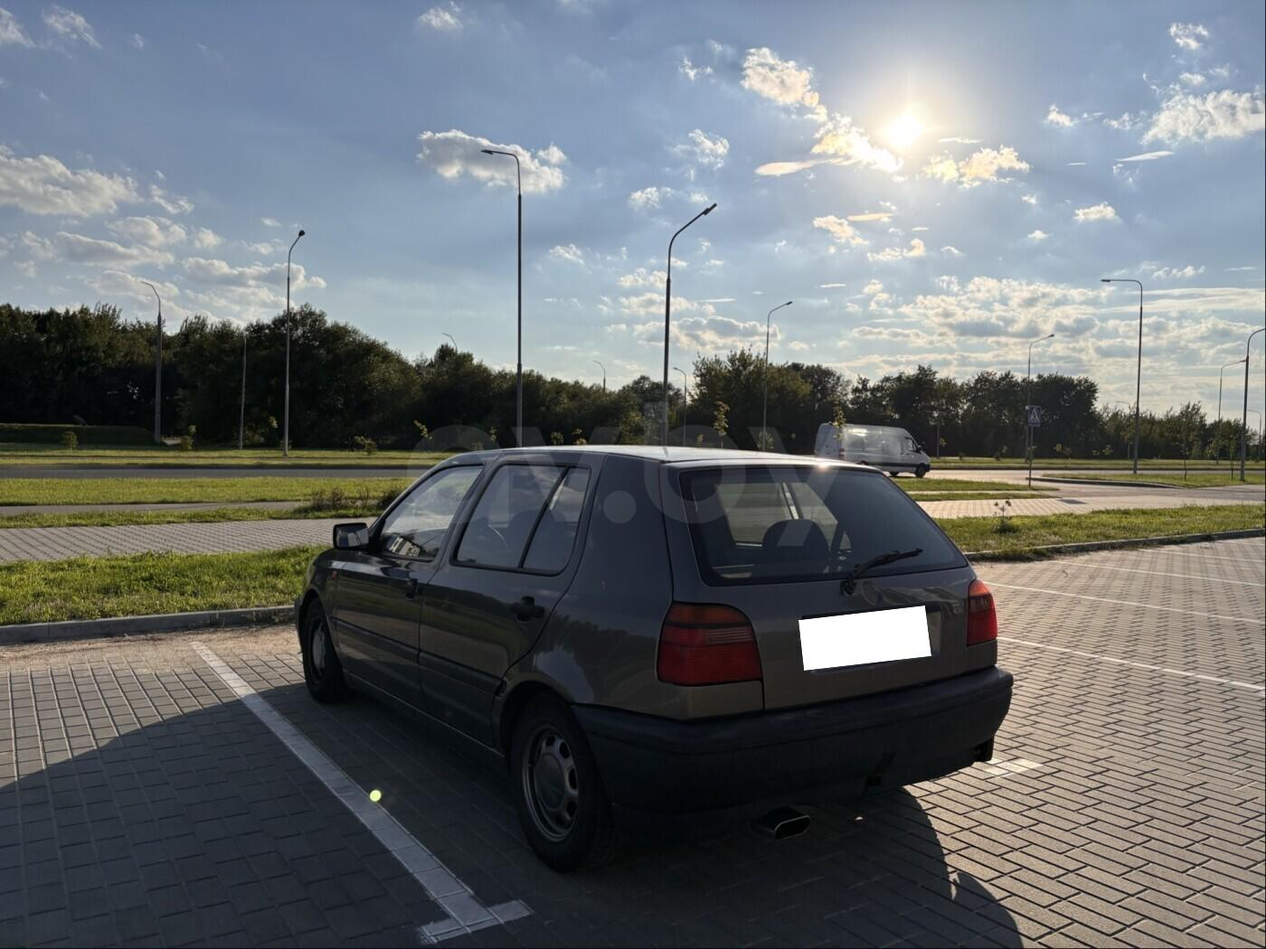Golf_1991-2000: (295, 443, 1012, 824)
